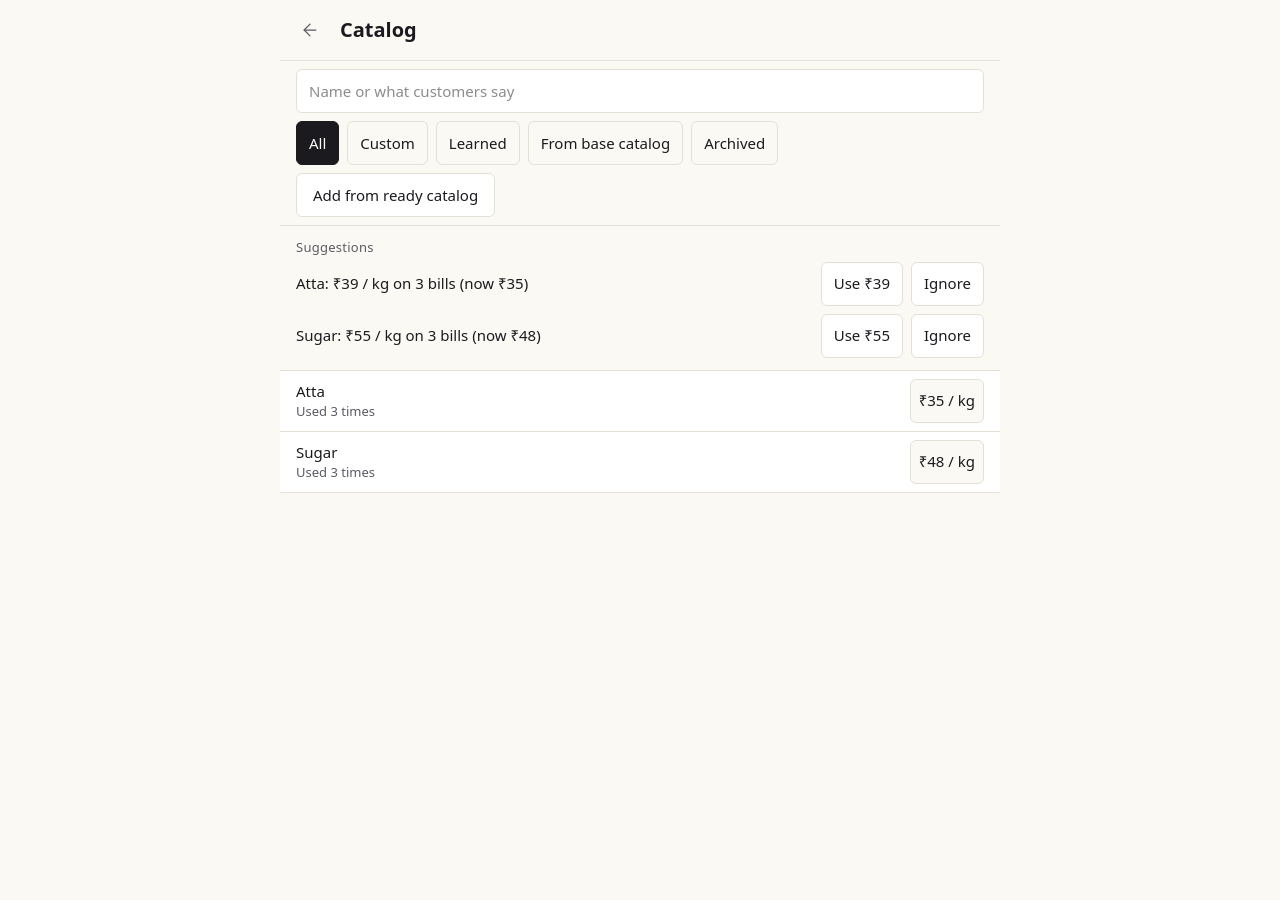
Test case: KB-329 - Ignore on a price suggestion › tapping it hides THAT suggestion, keeps the other, says so, and changes no price
Click the button with aria-label "Ignore the suggestion for Sugar": (948, 336) [911, 314, 984, 358]
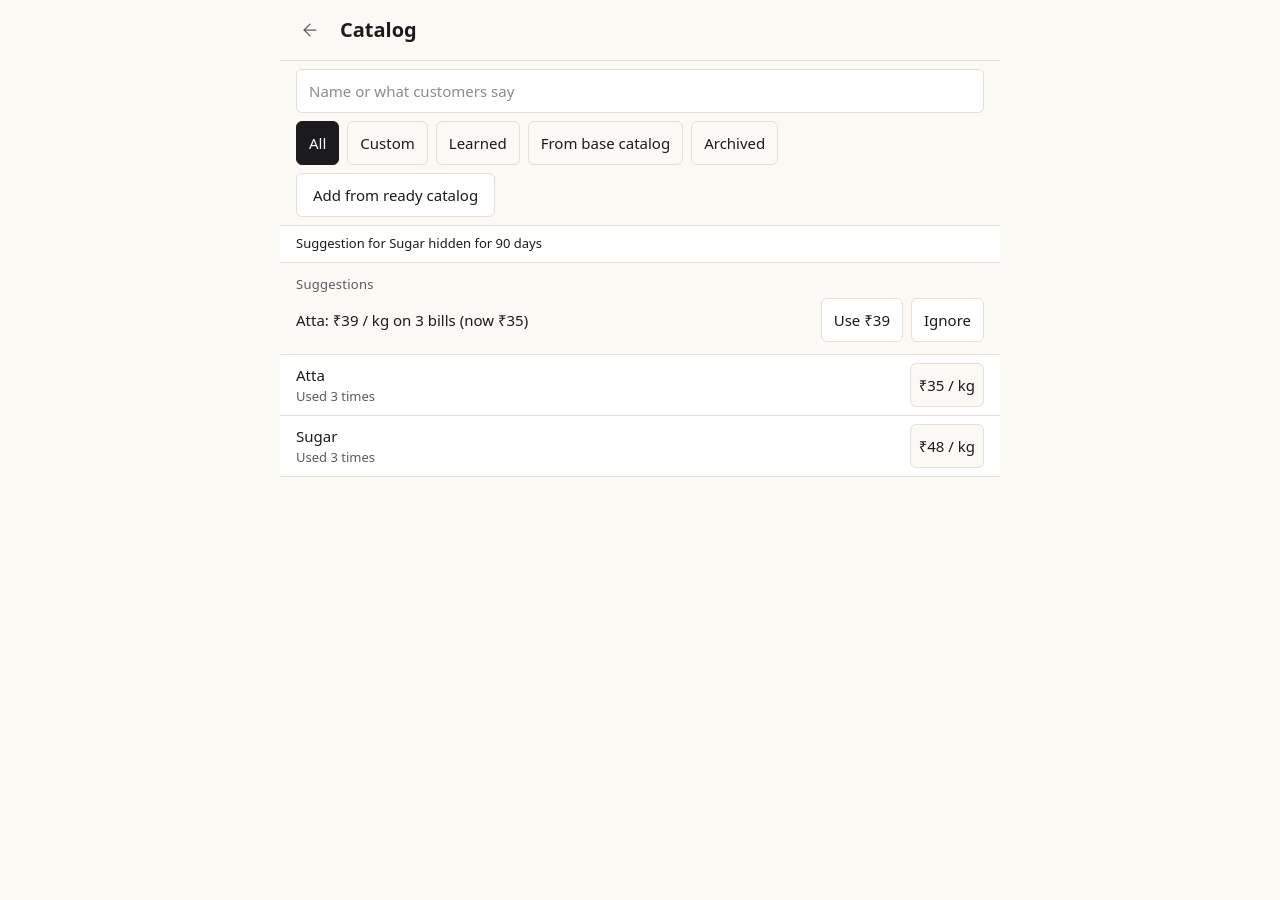
Check: the text "Atta: ₹39 / kg on 3 bills (now ₹35)" is shown, box [296, 310, 528, 330]
Check: the text "Sugar:" is gone
Check: the message reads "Suggestion for Sugar hidden for 90 days", box [296, 234, 542, 252]
